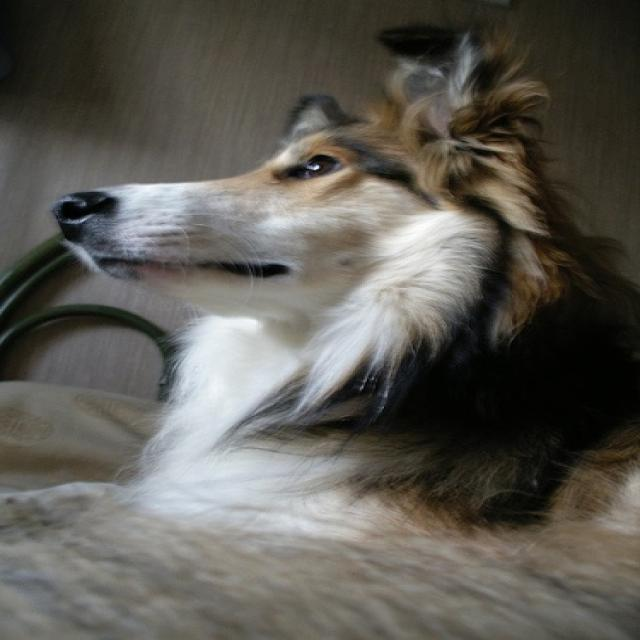dog: (4, 21, 638, 638)
